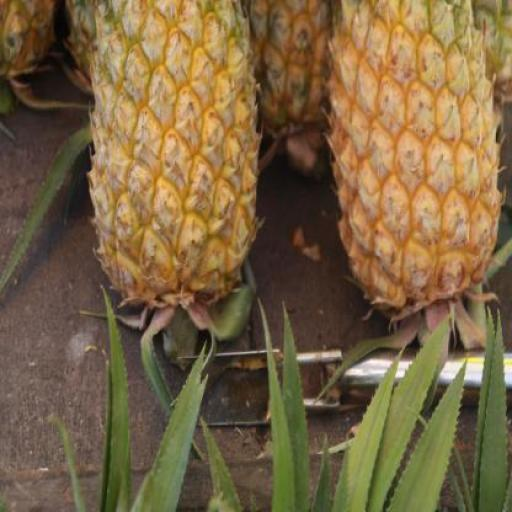Pineapple - v8 v1: (331, 0, 505, 326), (83, 0, 262, 311)
